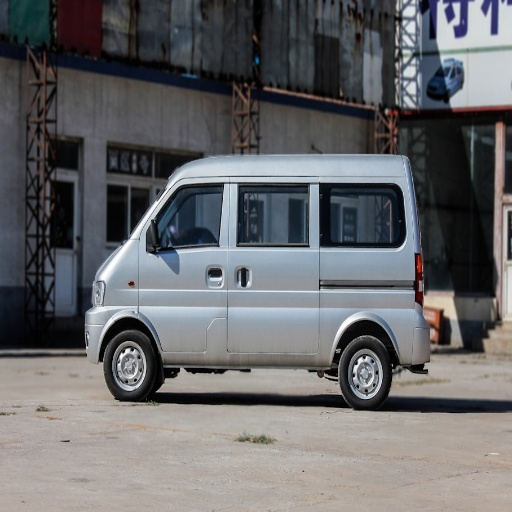back_left_door: (229, 178, 306, 350)
trunk: (286, 274, 420, 363)
